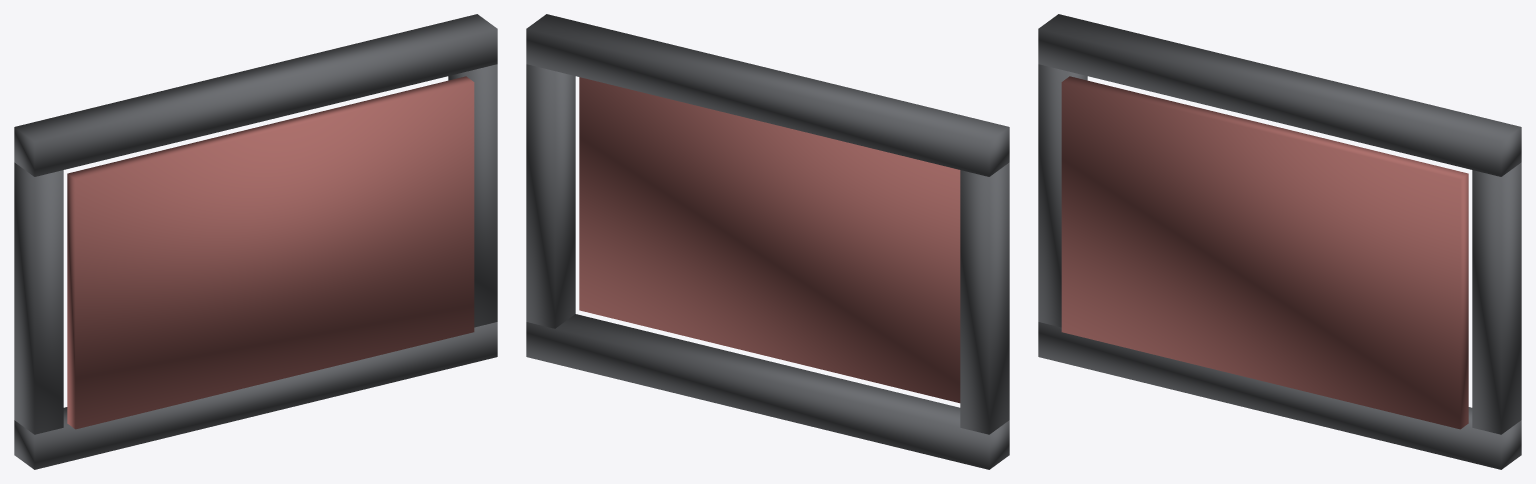
Rendered from on_air_wall_sign__tall.glb.
3 views of the same model, side by side, from view 1: azimuth 30°, elevation 25°; view 2: azimuth 150°, elevation 25°; view 3: azimuth 330°, elevation 25° (orthographic).
Parts seen in each view (by area): view 1: world; view 2: world; view 3: world.
Boxes of the visible parts, box(x1,y1,x2,y2) form: world: box(14, 14, 497, 469); world: box(526, 14, 1009, 469); world: box(1038, 14, 1521, 469).
Bounding box in the file's own units: 0.72 × 0.4872 × 0.0785.
